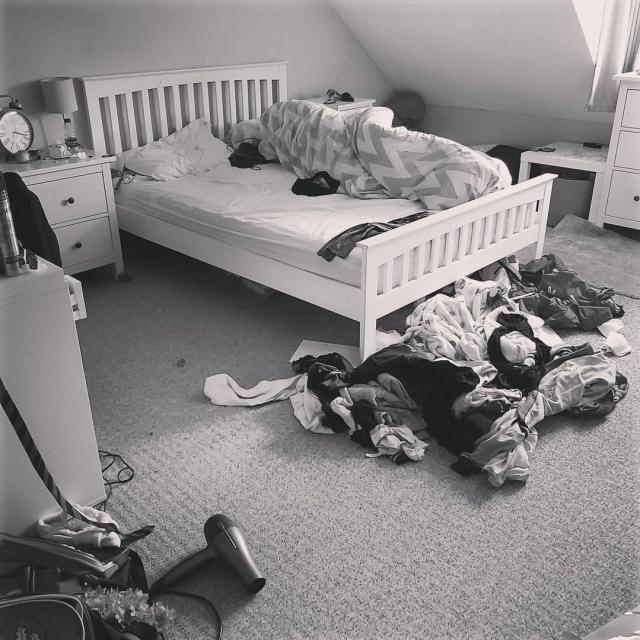bed: (91, 75, 558, 319)
